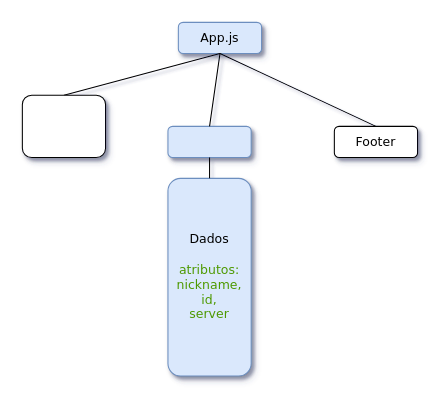
Image size: 448x408. Some labels were removed from this diagram. Each missing label, with the centre of its shape:
Header img: x1: (x=64, y=127)
Main: (x=210, y=143)
